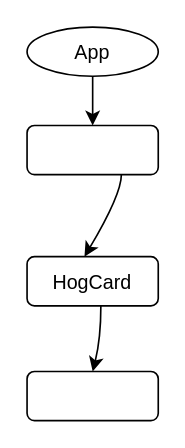
The diagram is 185 pixels wide and 448 high, and some of its shapes have lost their labels. Here are the shapes that lost their labels. From the top down, the centre of each, then its label:
At pixel 91 149: "Hog Filter/sort".
At pixel 91 395: "Additional info".
